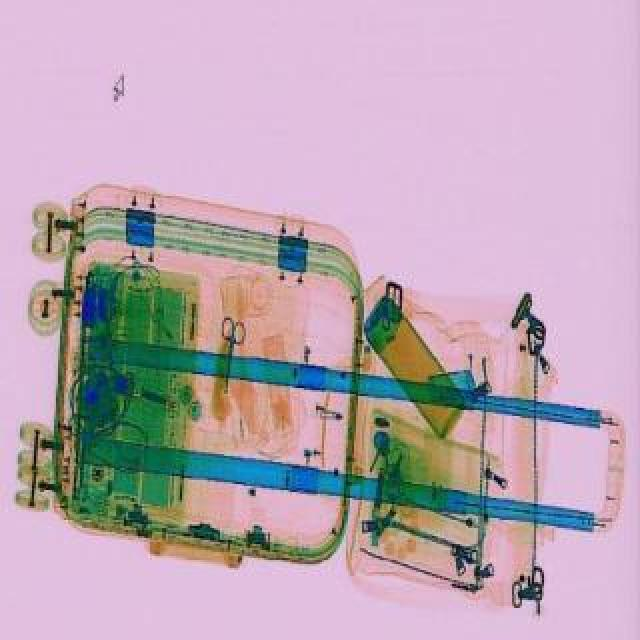pliers: (212, 314, 252, 390)
